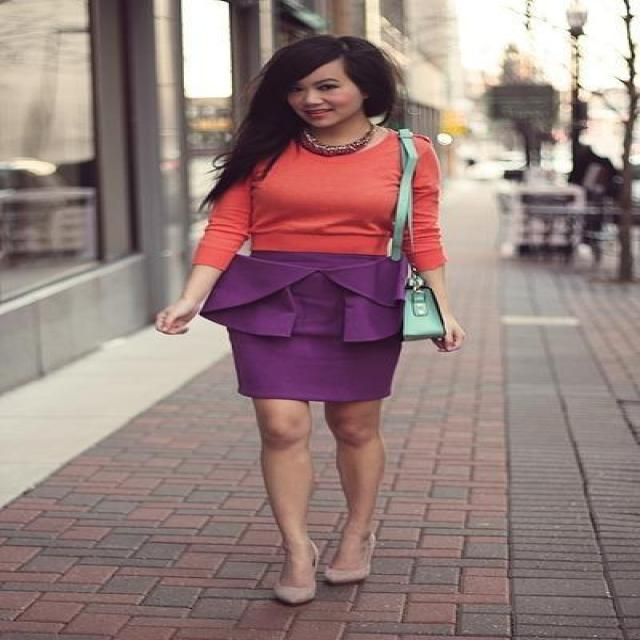shirt: (193, 129, 450, 273)
shoe: (277, 574, 315, 600)
skirt: (200, 245, 426, 416)
